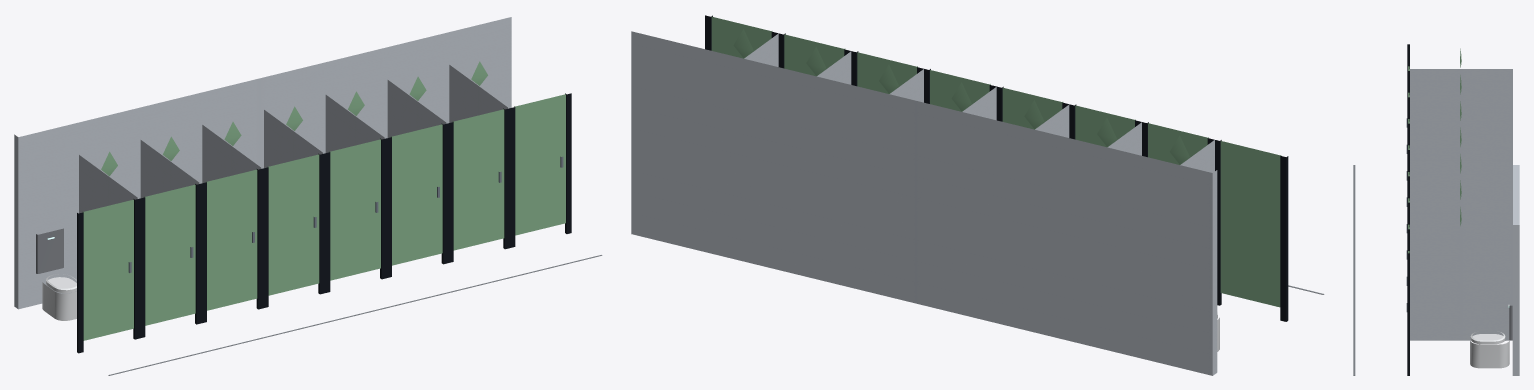
The model's file is tt_restroom.glb.
3 views of the same model, side by side, from view 1: azimuth 30°, elevation 25°; view 2: azimuth 150°, elevation 25°; view 3: azimuth 270°, elevation 25° (orthographic). The views are drawn at different scales.
Visible parts, largest first — view 1: Stall_Doors, Wet_Wall, Pilasters, Partitions, Leaf_Crests, WC, WC_VacUnit, Aisle_Centre_Strip; view 2: Wet_Wall, Stall_Doors, Partitions, Pilasters, Leaf_Crests; view 3: Partitions, Wet_Wall, WC, Pilasters, Aisle_Centre_Strip, Leaf_Crests.
Boxes of the visible parts, x1=… form: Stall_Doors: x1=82, y1=94, x2=565, y2=340; Wet_Wall: x1=14, y1=17, x2=511, y2=309; Pilasters: x1=77, y1=93, x2=571, y2=353; Partitions: x1=79, y1=65, x2=509, y2=213; Leaf_Crests: x1=101, y1=61, x2=487, y2=176; WC: x1=42, y1=274, x2=76, y2=320; WC_VacUnit: x1=36, y1=228, x2=63, y2=273; Aisle_Centre_Strip: x1=108, y1=255, x2=602, y2=375; Wet_Wall: x1=631, y1=31, x2=1217, y2=375; Stall_Doors: x1=711, y1=16, x2=1281, y2=307; Partitions: x1=744, y1=33, x2=1214, y2=172; Pilasters: x1=705, y1=15, x2=1288, y2=321; Leaf_Crests: x1=733, y1=29, x2=1189, y2=164; Partitions: x1=1409, y1=69, x2=1512, y2=340; Wet_Wall: x1=1512, y1=165, x2=1519, y2=375; WC: x1=1470, y1=332, x2=1509, y2=368; Pilasters: x1=1407, y1=44, x2=1409, y2=375; Aisle_Centre_Strip: x1=1353, y1=165, x2=1355, y2=375; Leaf_Crests: x1=1460, y1=48, x2=1461, y2=225.
Size of the model in its own units: 7.2 by 2.4 by 2.4.
8 materials, 3 textured.
